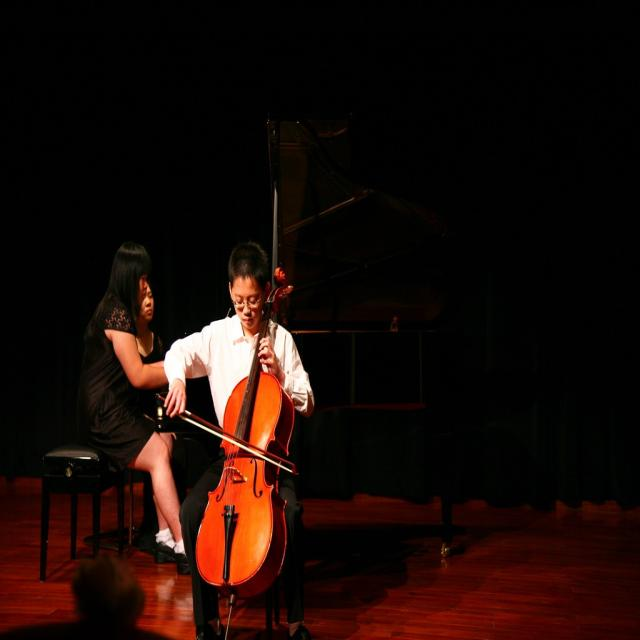cello: (195, 267, 292, 598)
